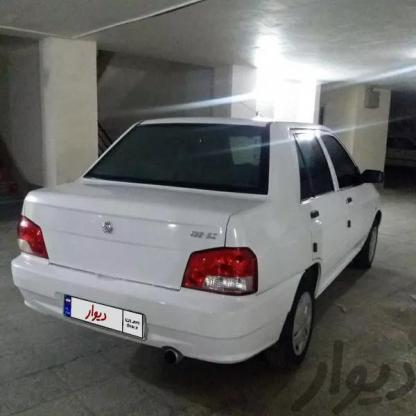Car: (11, 116, 385, 374)
